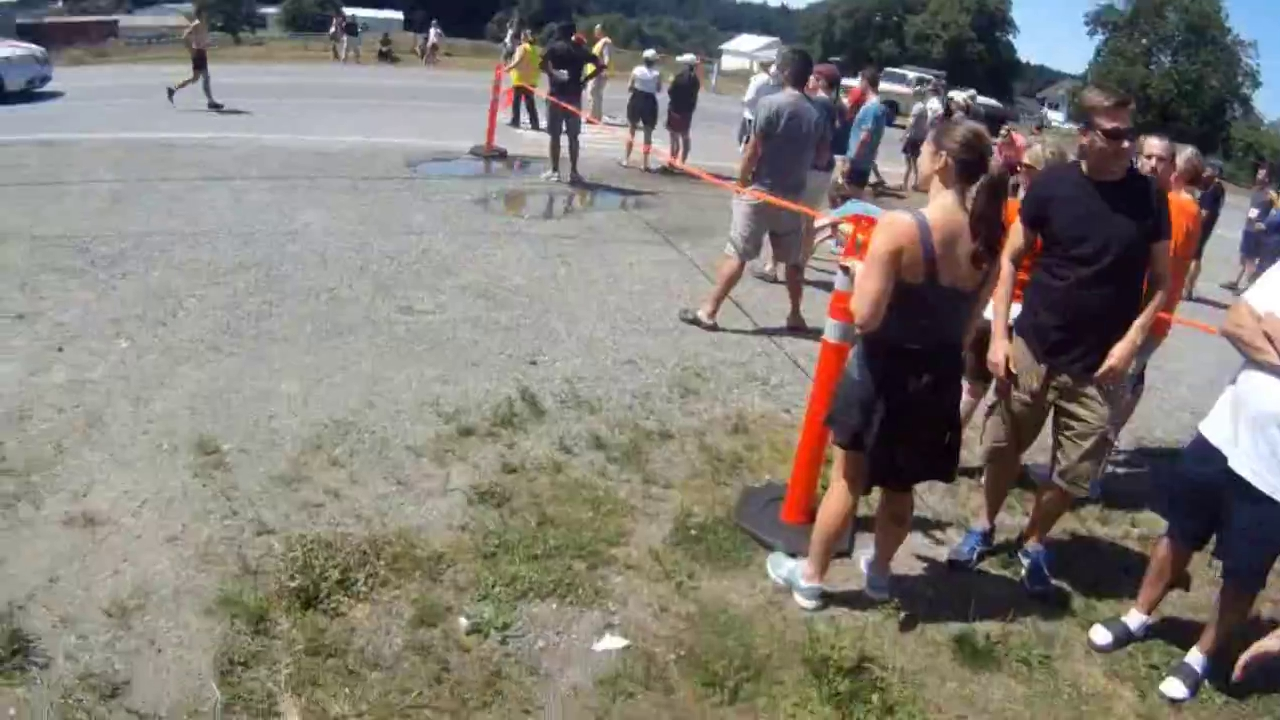person: (765, 117, 1005, 611), (948, 86, 1171, 596), (678, 48, 830, 331), (161, 7, 227, 114)
